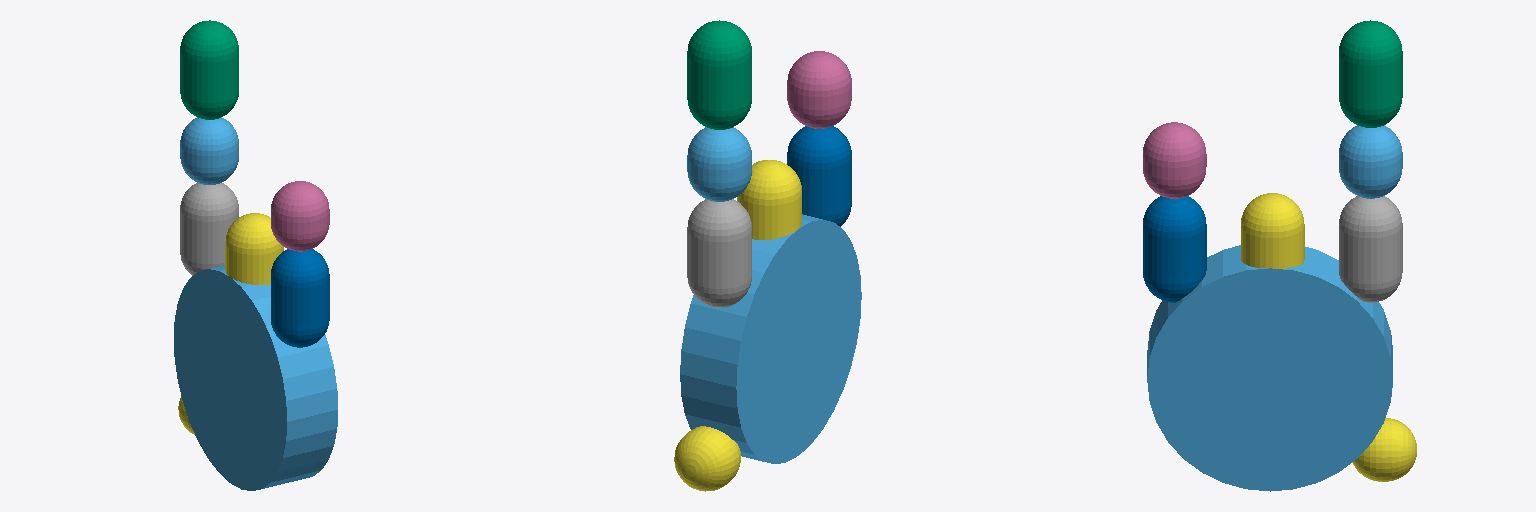
The robot description file, URDF, robot "DexterousHand":
<?xml version="1.0"?>
<robot name="DexterousHand">


    <link name="world"/>
    <joint name="world_to_palm" type="fixed">
        <parent link="world"/>
        <child link="palm"/>
        <origin xyz="0 0 0" rpy="0 0 0"/>
    </joint>
    <link name="palm">
        <inertial>
            <origin xyz="0 0 0.057" rpy="0 0 0"/>
            <mass value="0.30212892864"/>
            <inertia ixx="0.00049080844457568" ixy="0.0" ixz="0.0" iyy="0.00026746366246427523" iyz="0.0" izz="0.00026746366246427523"/>
        </inertial>
        <visual>
            <origin xyz="0 0 0.057" rpy="1.5708 0 1.5708"/>
            <geometry>
                <cylinder radius="0.057" length="0.0296"/>
            </geometry>
            <material name="default"/>
        </visual>
        <collision>
            <origin xyz="0 0 0.057" rpy="1.5708 0 1.5708"/>
            <geometry>
                <cylinder radius="0.057" length="0.0296"/>
            </geometry>
        </collision>
    </link>

    
    <joint name="thumb_joint1" type="revolute">
        <parent link="palm"/>
        <child link="thumb_base"/>
        <origin xyz="0.0029 0.0368 0.0157" rpy="-1.5708 -1.5708 0.0"/>
        <axis xyz="-1 0 0"/>
        <limit lower="-0.349" upper="2.094" effort="1.0" velocity="1.0"/>
    </joint>

    <link name="thumb_base"></link>

    <joint name="thumb_joint2" type="revolute">
        <parent link="thumb_base"/>
        <child link="thumb_proximal"/>
        <origin xyz="0.0 0.0 0.0" rpy="0.0 0.0 0.0"/>
        <axis xyz="0 0 1"/>
        <limit lower="-0.47" upper="2.443" effort="1.0" velocity="1.0"/>
    </joint>

    <link name="thumb_proximal">
        <inertial>
            <origin xyz="0 0 0.01565" rpy="0 0 0"/>
            <mass value="0.021538658803200002"/>
            <inertia ixx="2.9378910096388167e-06" ixy="0.0" ixz="0.0" 
            iyy="2.9378910096388167e-06" iyz="0.0" izz="2.358913912126464e-06"/>
        </inertial>
        <visual>
            <origin xyz="0 0 0.01565" rpy="0 0 0"/>
            <geometry>
                <cylinder radius="0.0148" length="0.0017000000000000001"/>
            </geometry>
            <material name="default"/>
        </visual>
        <visual>
            <origin xyz="0 0 0.0148" rpy="0 0 0"/>
            <geometry>
                <sphere radius="0.0148"/>
            </geometry>
            <material name="default"/>
        </visual>
        <visual>
            <origin xyz="0 0 0.0165" rpy="0 0 0"/>
            <geometry>
                <sphere radius="0.0148"/>
            </geometry>
            <material name="default"/>
        </visual>
        <collision>
            <origin xyz="0 0 0.01565" rpy="0 0 0"/>
            <geometry>
                <cylinder radius="0.0148" length="0.0017000000000000001"/>
            </geometry>
        </collision>
        <collision>
            <origin xyz="0 0 0.0148" rpy="0 0 0"/>
            <geometry>
                <sphere radius="0.0148"/>
            </geometry>
        </collision>
        <collision>
            <origin xyz="0 0 0.0165" rpy="0 0 0"/>
            <geometry>
                <sphere radius="0.0148"/>
            </geometry>
        </collision>
    </link>

    <joint name="thumb_joint3" type="revolute">
        <parent link="thumb_proximal"/>
        <child link="thumb_knuckle"/>
        <origin xyz="0.0 0.0 0.0" rpy="0.0 0.0 0.0"/>
        <axis xyz="1 0 0"/>
        <limit lower="0.0" upper="0.0" effort="1.0" velocity="1.0"/>
    </joint>

    <link name="thumb_knuckle"></link>

    <joint name="thumb_joint4" type="revolute">
        <parent link="thumb_knuckle"/>
        <child link="thumb_middle"/>
        <origin xyz="0 0 0" rpy="0 0 0"/> 
        <axis xyz="0 1 0"/>
        <limit lower="0.0" upper="0.0" effort="1.0" velocity="1.0"/>
    </joint>

    <link name="thumb_middle">
    </link>

    <joint name="thumb_joint5" type="revolute">
        <parent link="thumb_middle"/>
        <child link="thumb_distal"/>
        <origin xyz="0 0 0" rpy="0 0 0"/> 
        <axis xyz="0 1 0"/>
        <limit lower="0.0" upper="0.0" effort="1.0" velocity="1.0"/>
    </joint>

    <link name="thumb_distal">
    </link>

    
    <joint name="index_joint1" type="revolute">
        <parent link="palm"/>
        <child link="index_proximal"/>
        <origin xyz="0.0 0.0465 0.091" rpy="0.0 0.0 0.0"/>
        <axis xyz="0 1 0"/>
        <limit lower="-0.314" upper="2.23" effort="1.0" velocity="1.0"/>
    </joint>

    <link name="index_proximal">
        <inertial>
            <origin xyz="0 0 0.02655" rpy="0 0 0"/>
            <mass value="0.036540024998400006"/>
            <inertia ixx="1.058665009272394e-05" ixy="0.0" ixz="0.0" 
            iyy="1.058665009272394e-05" iyz="0.0" izz="4.001863537824769e-06"/>
        </inertial>
        <visual>
            <origin xyz="0 0 0.02655" rpy="0 0 0"/>
            <geometry>
                <cylinder radius="0.0148" length="0.0235"/>
            </geometry>
            <material name="default"/>
        </visual>
        <visual>
            <origin xyz="0 0 0.0148" rpy="0 0 0"/>
            <geometry>
                <sphere radius="0.0148"/>
            </geometry>
            <material name="default"/>
        </visual>
        <visual>
            <origin xyz="0 0 0.0383" rpy="0 0 0"/>
            <geometry>
                <sphere radius="0.0148"/>
            </geometry>
            <material name="default"/>
        </visual>
        <collision>
            <origin xyz="0 0 0.02655" rpy="0 0 0"/>
            <geometry>
                <cylinder radius="0.0148" length="0.0235"/>
            </geometry>
        </collision>
        <collision>
            <origin xyz="0 0 0.0148" rpy="0 0 0"/>
            <geometry>
                <sphere radius="0.0148"/>
            </geometry>
        </collision>
        <collision>
            <origin xyz="0 0 0.0383" rpy="0 0 0"/>
            <geometry>
                <sphere radius="0.0148"/>
            </geometry>
        </collision>
    </link>

    <joint name="index_joint2" type="revolute">
        <parent link="index_proximal"/>
        <child link="index_dummy"/>
        <origin xyz="0.0 0.0 0.038" rpy="0.0 0.0 0.0"/>
        <axis xyz="1 0 0"/>
        <limit lower="-1.047" upper="1.047" effort="1.0" velocity="1.0"/>
    </joint>

    <link name="index_dummy"></link>

    <joint name="index_joint3" type="revolute">
        <parent link="index_dummy"/>
        <child link="index_middle"/>
        <origin xyz="0 0 0.015100000000000002" rpy="0 0 0"/>
        <axis xyz="0 1 0"/>
        <limit lower="-0.506" upper="1.885" effort="1.0" velocity="1.0"/>
    </joint>

    <link name="index_middle">
        <inertial>
            <origin xyz="0 0 0.01805" rpy="0 0 0"/>
            <mass value="0.0248417119104"/>
            <inertia ixx="4.058162759109537e-06" ixy="0.0" ixz="0.0" 
            iyy="4.058162759109537e-06" iyz="0.0" izz="2.7206642884270085e-06"/>
        </inertial>
        <visual>
            <origin xyz="0 0 0.01805" rpy="0 0 0"/>
            <geometry>
                <cylinder radius="0.0148" length="0.006499999999999999"/>
            </geometry>
            <material name="default"/>
        </visual>
        <visual>
            <origin xyz="0 0 0.0148" rpy="0 0 0"/>
            <geometry>
                <sphere radius="0.0148"/>
            </geometry>
            <material name="default"/>
        </visual>
        <visual>
            <origin xyz="0 0 0.0213" rpy="0 0 0"/>
            <geometry>
                <sphere radius="0.0148"/>
            </geometry>
            <material name="default"/>
        </visual>
        <collision>
            <origin xyz="0 0 0.01805" rpy="0 0 0"/>
            <geometry>
                <cylinder radius="0.0148" length="0.006499999999999999"/>
            </geometry>
        </collision>
        <collision>
            <origin xyz="0 0 0.0148" rpy="0 0 0"/>
            <geometry>
                <sphere radius="0.0148"/>
            </geometry>
        </collision>
        <collision>
            <origin xyz="0 0 0.0213" rpy="0 0 0"/>
            <geometry>
                <sphere radius="0.0148"/>
            </geometry>
        </collision>
    </link>

    <joint name="index_joint4" type="revolute">
        <parent link="index_middle"/>
        <child link="index_distal"/>
        <origin xyz="0 0 0.0361" rpy="0 0 0"/> 
        <axis xyz="0 1 0"/>
        <limit lower="-0.366" upper="2.042" effort="1.0" velocity="1.0"/>
    </joint>

    <link name="index_distal">
        <inertial>
            <origin xyz="0 0 0.026" rpy="0 0 0"/>
            <mass value="0.035783075328"/>
            <inertia ixx="1.002260084553728e-05" ixy="0.0" ixz="0.0" 
            iyy="1.002260084553728e-05" iyz="0.0" izz="3.91896240992256e-06"/>
        </inertial>
        <visual>
            <origin xyz="0 0 0.026" rpy="0 0 0"/>
            <geometry>
                <cylinder radius="0.0148" length="0.022399999999999996"/>
            </geometry>
            <material name="default"/>
        </visual>
        <visual>
            <origin xyz="0 0 0.0148" rpy="0 0 0"/>
            <geometry>
                <sphere radius="0.0148"/>
            </geometry>
            <material name="default"/>
        </visual>
        <visual>
            <origin xyz="0 0 0.0372" rpy="0 0 0"/>
            <geometry>
                <sphere radius="0.0148"/>
            </geometry>
            <material name="default"/>
        </visual>
        <collision>
            <origin xyz="0 0 0.026" rpy="0 0 0"/>
            <geometry>
                <cylinder radius="0.0148" length="0.022399999999999996"/>
            </geometry>
        </collision>
        <collision>
            <origin xyz="0 0 0.0148" rpy="0 0 0"/>
            <geometry>
                <sphere radius="0.0148"/>
            </geometry>
        </collision>
        <collision>
            <origin xyz="0 0 0.0372" rpy="0 0 0"/>
            <geometry>
                <sphere radius="0.0148"/>
            </geometry>
        </collision>
    </link>

    
    <joint name="middle_joint1" type="revolute">
        <parent link="palm"/>
        <child link="middle_proximal"/>
        <origin xyz="0.0 0.0011 0.091" rpy="0.0 0.0 0.0"/>
        <axis xyz="0 1 0"/>
        <limit lower="-0.314" upper="2.23" effort="1.0" velocity="1.0"/>
    </joint>

    <link name="middle_proximal">
        <inertial>
            <origin xyz="0 0 0.02655" rpy="0 0 0"/>
            <mass value="0.036540024998400006"/>
            <inertia ixx="1.058665009272394e-05" ixy="0.0" ixz="0.0" 
            iyy="1.058665009272394e-05" iyz="0.0" izz="4.001863537824769e-06"/>
        </inertial>
        <visual>
            <origin xyz="0 0 0.02655" rpy="0 0 0"/>
            <geometry>
                <cylinder radius="0.0148" length="0.0235"/>
            </geometry>
            <material name="default"/>
        </visual>
        <visual>
            <origin xyz="0 0 0.0148" rpy="0 0 0"/>
            <geometry>
                <sphere radius="0.0148"/>
            </geometry>
            <material name="default"/>
        </visual>
        <visual>
            <origin xyz="0 0 0.0383" rpy="0 0 0"/>
            <geometry>
                <sphere radius="0.0148"/>
            </geometry>
            <material name="default"/>
        </visual>
        <collision>
            <origin xyz="0 0 0.02655" rpy="0 0 0"/>
            <geometry>
                <cylinder radius="0.0148" length="0.0235"/>
            </geometry>
        </collision>
        <collision>
            <origin xyz="0 0 0.0148" rpy="0 0 0"/>
            <geometry>
                <sphere radius="0.0148"/>
            </geometry>
        </collision>
        <collision>
            <origin xyz="0 0 0.0383" rpy="0 0 0"/>
            <geometry>
                <sphere radius="0.0148"/>
            </geometry>
        </collision>
    </link>

    <joint name="middle_joint2" type="revolute">
        <parent link="middle_proximal"/>
        <child link="middle_dummy"/>
        <origin xyz="0.0 0.0 0.038" rpy="0.0 0.0 0.0"/>
        <axis xyz="0 1 0"/>
        <limit lower="0.0" upper="0.0" effort="1.0" velocity="1.0"/>
    </joint>

    <link name="middle_dummy"></link>

    <joint name="middle_joint3" type="revolute">
        <parent link="middle_dummy"/>
        <child link="middle_middle"/>
        <origin xyz="0 0 0.015100000000000002" rpy="0 0 0"/>
        <axis xyz="0 1 0"/>
        <limit lower="0.0" upper="0.0" effort="1.0" velocity="1.0"/>
    </joint>

    <link name="middle_middle">
    </link>

    <joint name="middle_joint4" type="revolute">
        <parent link="middle_middle"/>
        <child link="middle_distal"/>
        <origin xyz="0 0 0" rpy="0 0 0"/> 
        <axis xyz="0 1 0"/>
        <limit lower="0.0" upper="0.0" effort="1.0" velocity="1.0"/>
    </joint>

    <link name="middle_distal">
    </link>

    
    <joint name="ring_joint1" type="revolute">
        <parent link="palm"/>
        <child link="ring_proximal"/>
        <origin xyz="0.0 0.0 0.0" rpy="0.0 0.0 0.0"/>
        <axis xyz="1 0 0"/>
        <limit lower="0.0" upper="0.0" effort="1.0" velocity="1.0"/>
    </joint>

    <link name="ring_proximal">
    </link>

    <joint name="ring_joint2" type="revolute">
        <parent link="ring_proximal"/>
        <child link="ring_dummy"/>
        <origin xyz="0.0 0.0 0.0" rpy="0.0 0.0 0.0"/>
        <axis xyz="0 1 0"/>
        <limit lower="0.0" upper="0.0" effort="1.0" velocity="1.0"/>
    </joint>

    <link name="ring_dummy"></link>

    <joint name="ring_joint3" type="revolute">
        <parent link="ring_dummy"/>
        <child link="ring_middle"/>
        <origin xyz="0 0 0" rpy="0 0 0"/>
        <axis xyz="0 1 0"/>
        <limit lower="0.0" upper="0.0" effort="1.0" velocity="1.0"/>
    </joint>

    <link name="ring_middle">
    </link>

    <joint name="ring_joint4" type="revolute">
        <parent link="ring_middle"/>
        <child link="ring_distal"/>
        <origin xyz="0 0 0" rpy="0 0 0"/> 
        <axis xyz="0 1 0"/>
        <limit lower="0.0" upper="0.0" effort="1.0" velocity="1.0"/>
    </joint>

    <link name="ring_distal">
    </link>

    
    <joint name="little_joint0" type="revolute">
        <parent link="palm"/>
        <child link="little_base"/>
        <origin xyz="0.0 0.0 0.0" rpy="0.0 0.0 0.0"/>
        <axis xyz="0 1 0"/>
        <limit lower="0.0" upper="0.0" effort="1.0" velocity="1.0"/>
    </joint>

    <link name="little_base"></link>

    <joint name="little_joint1" type="revolute">
        <parent link="little_base"/>
        <child link="little_proximal"/>
        <origin xyz="0.0 -0.0443 0.091" rpy="-0.0 -0.0 -0.0"/>
        <axis xyz="0 1 0"/>
        <limit lower="-0.314" upper="2.23" effort="1.0" velocity="1.0"/>
    </joint>

    <link name="little_proximal">
        <inertial>
            <origin xyz="0 0 0.02655" rpy="0 0 0"/>
            <mass value="0.036540024998400006"/>
            <inertia ixx="1.058665009272394e-05" ixy="0.0" ixz="0.0" 
            iyy="1.058665009272394e-05" iyz="0.0" izz="4.001863537824769e-06"/>
        </inertial>
        <visual>
            <origin xyz="0 0 0.02655" rpy="0 0 0"/>
            <geometry>
                <cylinder radius="0.0148" length="0.0235"/>
            </geometry>
            <material name="default"/>
        </visual>
        <visual>
            <origin xyz="0 0 0.0148" rpy="0 0 0"/>
            <geometry>
                <sphere radius="0.0148"/>
            </geometry>
            <material name="default"/>
        </visual>
        <visual>
            <origin xyz="0 0 0.0383" rpy="0 0 0"/>
            <geometry>
                <sphere radius="0.0148"/>
            </geometry>
            <material name="default"/>
        </visual>
        <collision>
            <origin xyz="0 0 0.02655" rpy="0 0 0"/>
            <geometry>
                <cylinder radius="0.0148" length="0.0235"/>
            </geometry>
        </collision>
        <collision>
            <origin xyz="0 0 0.0148" rpy="0 0 0"/>
            <geometry>
                <sphere radius="0.0148"/>
            </geometry>
        </collision>
        <collision>
            <origin xyz="0 0 0.0383" rpy="0 0 0"/>
            <geometry>
                <sphere radius="0.0148"/>
            </geometry>
        </collision>
    </link>

    <joint name="little_joint2" type="revolute">
        <parent link="little_proximal"/>
        <child link="little_dummy"/>
        <origin xyz="0.0 0.0 0.038" rpy="0.0 0.0 0.0"/>
        <axis xyz="1 0 0"/>
        <limit lower="-1.047" upper="1.047" effort="1.0" velocity="1.0"/>
    </joint>

    <link name="little_dummy"></link>

    <joint name="little_joint3" type="revolute">
        <parent link="little_dummy"/>
        <child link="little_middle"/>
        <origin xyz="0 0 0.015100000000000002" rpy="0 0 0"/>
        <axis xyz="0 1 0"/>
        <limit lower="-0.506" upper="1.885" effort="1.0" velocity="1.0"/>
    </joint>

    <link name="little_middle">
        <inertial>
            <origin xyz="0 0 0.01805" rpy="0 0 0"/>
            <mass value="0.0248417119104"/>
            <inertia ixx="4.058162759109537e-06" ixy="0.0" ixz="0.0" 
            iyy="4.058162759109537e-06" iyz="0.0" izz="2.7206642884270085e-06"/>
        </inertial>
        <visual>
            <origin xyz="0 0 0.01805" rpy="0 0 0"/>
            <geometry>
                <cylinder radius="0.0148" length="0.006499999999999999"/>
            </geometry>
            <material name="default"/>
        </visual>
        <visual>
            <origin xyz="0 0 0.0148" rpy="0 0 0"/>
            <geometry>
                <sphere radius="0.0148"/>
            </geometry>
            <material name="default"/>
        </visual>
        <visual>
            <origin xyz="0 0 0.0213" rpy="0 0 0"/>
            <geometry>
                <sphere radius="0.0148"/>
            </geometry>
            <material name="default"/>
        </visual>
        <collision>
            <origin xyz="0 0 0.01805" rpy="0 0 0"/>
            <geometry>
                <cylinder radius="0.0148" length="0.006499999999999999"/>
            </geometry>
        </collision>
        <collision>
            <origin xyz="0 0 0.0148" rpy="0 0 0"/>
            <geometry>
                <sphere radius="0.0148"/>
            </geometry>
        </collision>
        <collision>
            <origin xyz="0 0 0.0213" rpy="0 0 0"/>
            <geometry>
                <sphere radius="0.0148"/>
            </geometry>
        </collision>
    </link>

    <joint name="little_joint4" type="revolute">
        <parent link="little_middle"/>
        <child link="little_distal"/>
        <origin xyz="0 0 0.0361" rpy="0 0 0"/>
        <axis xyz="0 1 0"/>
        <limit lower="0.0" upper="0.0" effort="1.0" velocity="1.0"/>
    </joint>

    <link name="little_distal">
    </link>

</robot>

--- What the picture shows (computed from the rendered views, not written in the file) ---
3 views of the same robot in one strip: view 1: azimuth 30°, elevation 25°; view 2: azimuth 150°, elevation 25°; view 3: azimuth 270°, elevation 25° (orthographic).
Model DexterousHand with 24 links and 23 joints (22 revolute, 1 fixed), rooted at world, posed all joints at 0.
Visible links, largest first — view 1: palm, little_proximal, index_distal, index_proximal, little_middle, index_middle, middle_proximal; view 2: palm, index_proximal, index_distal, little_proximal, little_middle, index_middle, middle_proximal, thumb_proximal; view 3: palm, index_distal, index_proximal, little_proximal, middle_proximal, little_middle, index_middle, thumb_proximal.
Link boxes in pixels (left/top/right/bottom): palm: left=174, top=265, right=337, bottom=490; little_proximal: left=271, top=249, right=329, bottom=347; index_distal: left=180, top=20, right=238, bottom=119; index_proximal: left=180, top=183, right=238, bottom=275; little_middle: left=271, top=181, right=329, bottom=251; index_middle: left=180, top=117, right=238, bottom=184; middle_proximal: left=225, top=213, right=283, bottom=284; palm: left=680, top=214, right=861, bottom=463; index_proximal: left=687, top=199, right=751, bottom=307; index_distal: left=687, top=20, right=751, bottom=129; little_proximal: left=787, top=126, right=851, bottom=226; little_middle: left=787, top=51, right=851, bottom=128; index_middle: left=687, top=127, right=751, bottom=201; middle_proximal: left=737, top=160, right=801, bottom=239; thumb_proximal: left=674, top=426, right=740, bottom=491; palm: left=1147, top=245, right=1392, bottom=491; index_distal: left=1339, top=20, right=1402, bottom=127; index_proximal: left=1339, top=196, right=1402, bottom=302; little_proximal: left=1143, top=196, right=1206, bottom=302; middle_proximal: left=1241, top=193, right=1304, bottom=268; little_middle: left=1143, top=122, right=1206, bottom=198; index_middle: left=1339, top=125, right=1402, bottom=198; thumb_proximal: left=1352, top=418, right=1416, bottom=481.
Bounding box of the posed robot: 0.0325 × 0.1272 × 0.2322 m (x, y, z).
Geometry: primitives only (box / cylinder / sphere), no mesh files.
